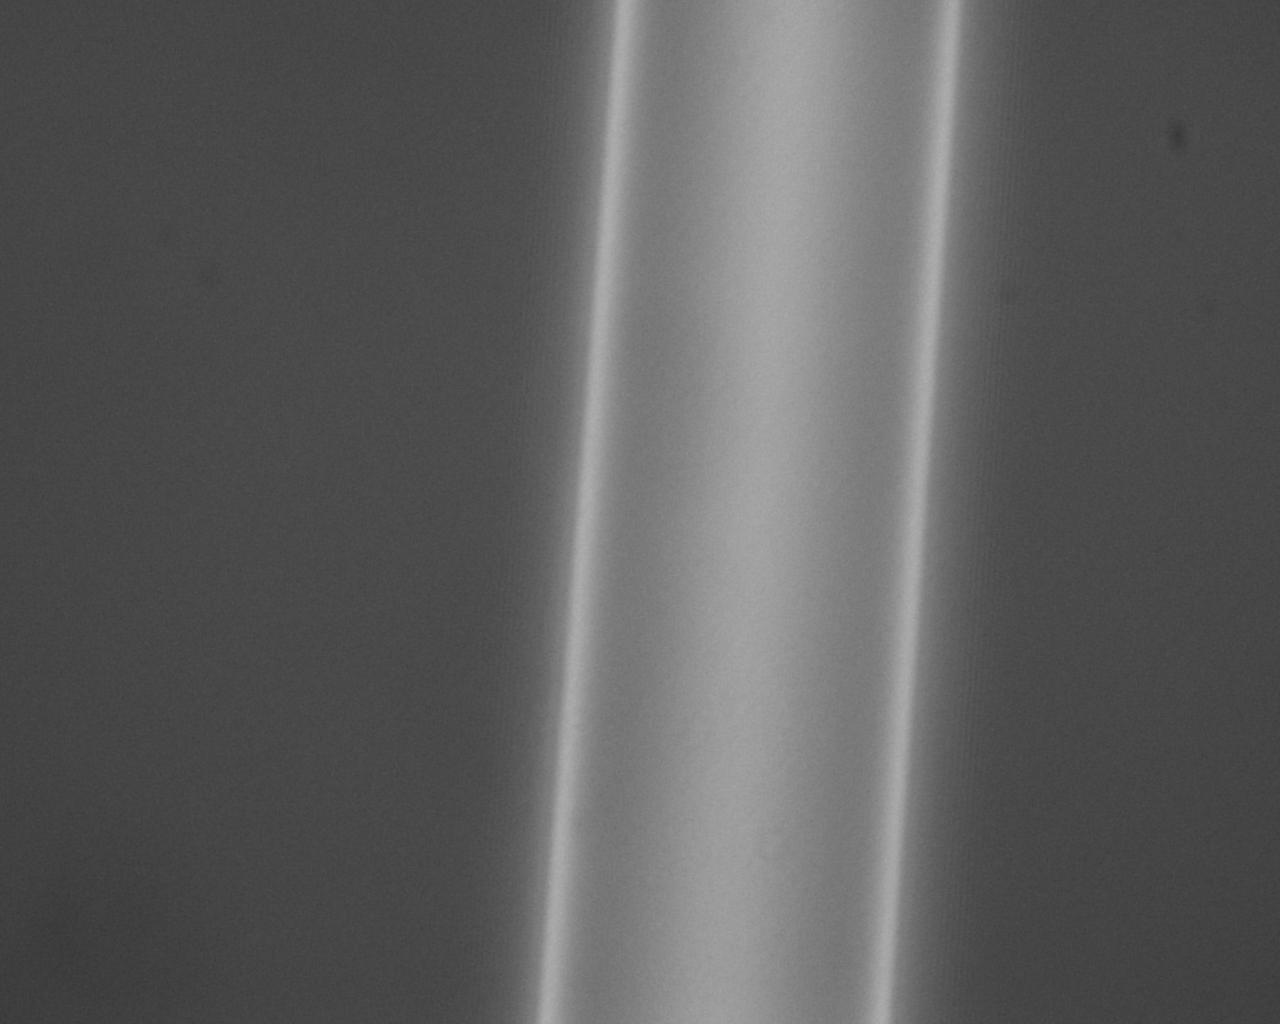fiber: (128, 472, 1152, 769)
